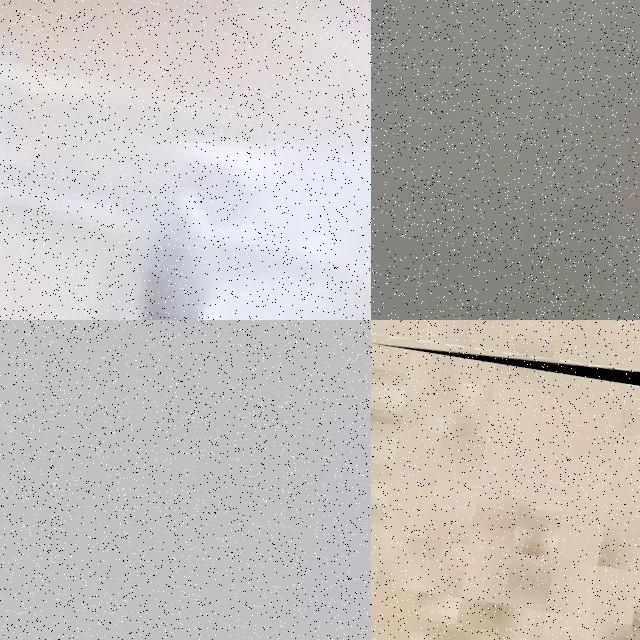0: (371, 320, 640, 410)
drone: (0, 0, 371, 320)
